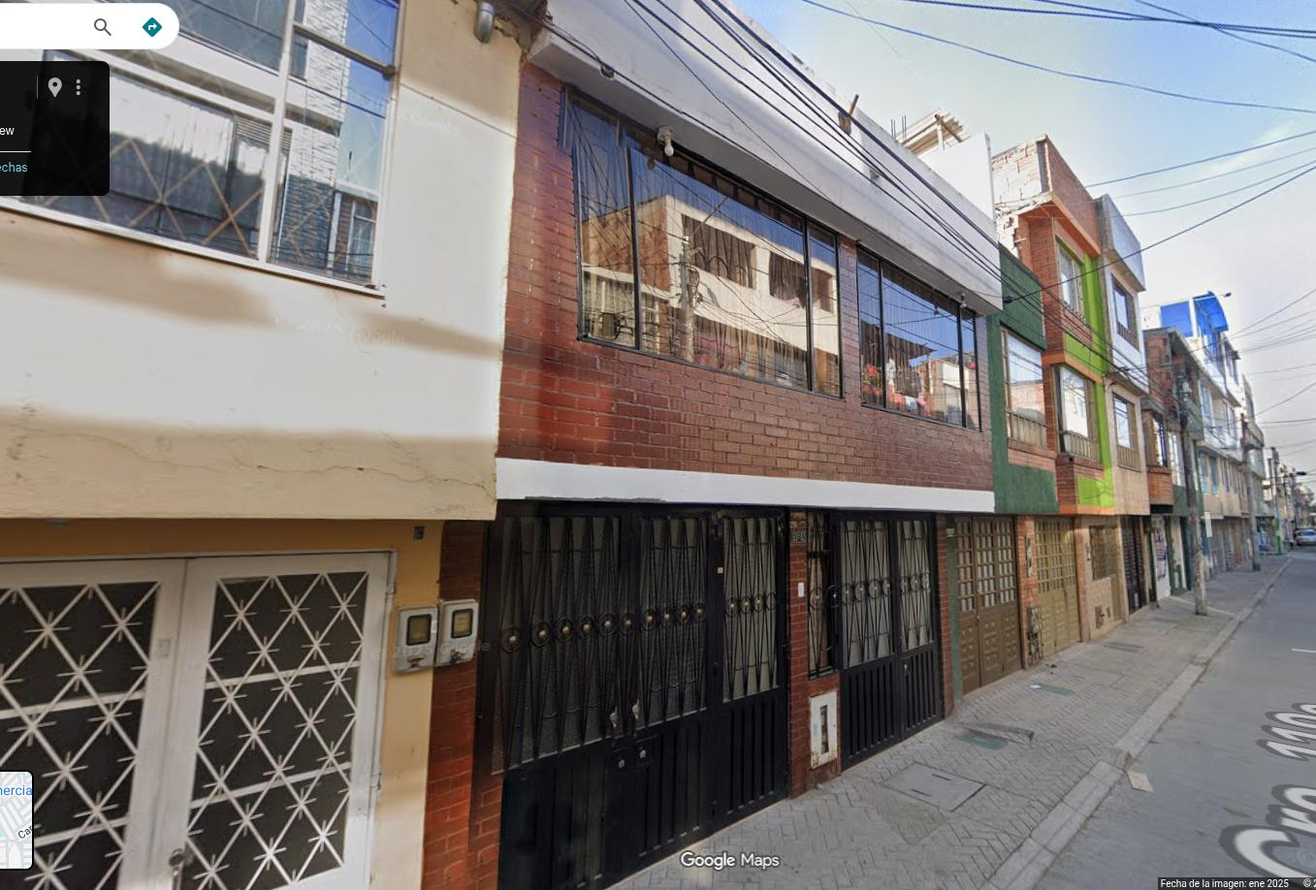casa: (426, 0, 1004, 889), (0, 0, 520, 889), (947, 248, 1059, 694)
poste: (1176, 372, 1208, 615)
